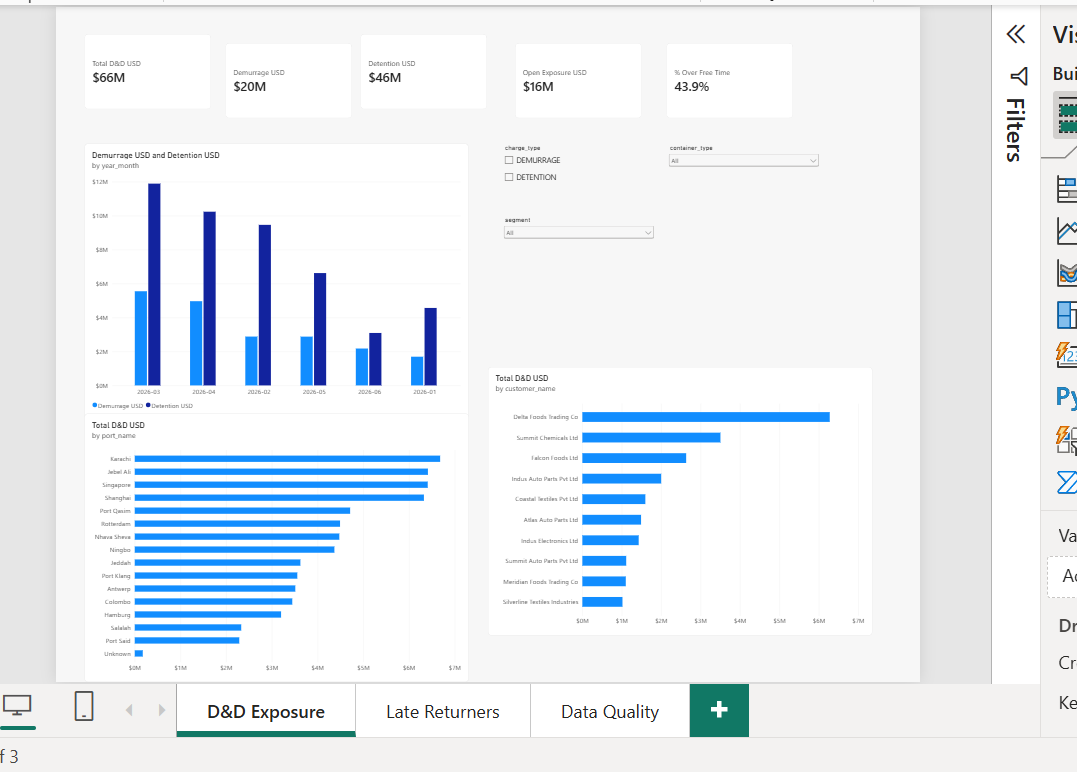

What the dashboard file says about the page in this screenshot:
{"tool":"powerbi","page":{"name":"D&D Exposure","canvas":[1920,1500],"ordinal":0},"visuals":[{"type":"cardVisual","fields":{"Data":["v_dd_exposure.Total D&D USD"]},"box":[64.4,59.6,281.5,167],"z":0},{"type":"cardVisual","fields":{"Data":["v_dd_exposure.% Over Free Time"]},"box":[1355.2,78.7,281.5,167],"z":1000},{"type":"cardVisual","fields":{"Data":["v_dd_exposure.Demurrage USD"]},"box":[377,78.7,281.5,167],"z":2000},{"type":"cardVisual","fields":{"Data":["v_dd_exposure.Detention USD"]},"box":[677.6,59.6,281.5,167],"z":3000},{"type":"cardVisual","fields":{"Data":["v_dd_exposure.Open Exposure USD"]},"box":[1021.2,78.7,281.5,167],"z":4000},{"type":"clusteredColumnChart","fields":{"Category":["v_date.year_month"],"Y":["v_dd_exposure.Demurrage USD","v_dd_exposure.Detention USD"]},"box":[63,303.6,853.6,613],"z":4001},{"type":"barChart","fields":{"Category":["v_dd_exposure.customer_name"],"Y":["v_dd_exposure.Total D&D USD"]},"box":[959.4,798.8,854.2,596.5],"z":4002},{"type":"barChart","fields":{"Y":["v_dd_exposure.Total D&D USD"],"Category":["v_dd_exposure.port_name"]},"box":[63,904.7,854.2,596.5],"z":4003},{"type":"slicer","fields":{"Values":["v_dd_exposure.charge_type"]},"box":[990,302,344,160.5],"z":4004},{"type":"slicer","fields":{"Values":["v_dd_exposure.container_type"]},"box":[1356.9,302,344,160.5],"z":4005},{"type":"slicer","fields":{"Values":["v_dd_exposure.segment"]},"box":[990,462.5,344,160.5],"z":4006}]}

Visuals, with their boxes on the page's 1920x1500 design canvas (x1, y1, x2, y2). These are canvas units, not pixel positions in the 1077x772 screenshot, which may show the page scaled, cropped or inside an application window:
cardVisual - v_dd_exposure.Total D&D USD: box(64, 60, 346, 227)
cardVisual - v_dd_exposure.% Over Free Time: box(1355, 79, 1637, 246)
cardVisual - v_dd_exposure.Demurrage USD: box(377, 79, 658, 246)
cardVisual - v_dd_exposure.Detention USD: box(678, 60, 959, 227)
cardVisual - v_dd_exposure.Open Exposure USD: box(1021, 79, 1303, 246)
clusteredColumnChart - v_date.year_month x v_dd_exposure.Demurrage USD: box(63, 304, 917, 917)
barChart - v_dd_exposure.customer_name x v_dd_exposure.Total D&D USD: box(959, 799, 1814, 1395)
barChart - v_dd_exposure.Total D&D USD x v_dd_exposure.port_name: box(63, 905, 917, 1501)
slicer - v_dd_exposure.charge_type: box(990, 302, 1334, 462)
slicer - v_dd_exposure.container_type: box(1357, 302, 1701, 462)
slicer - v_dd_exposure.segment: box(990, 462, 1334, 623)
